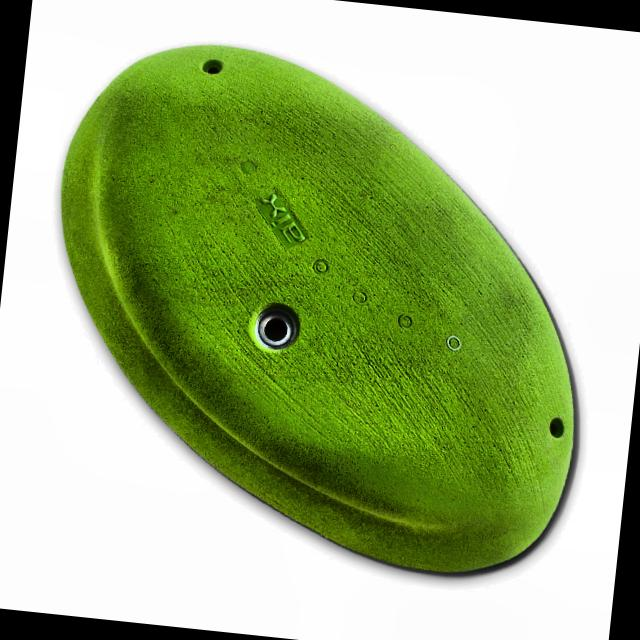Hold: (20, 28, 613, 588)
